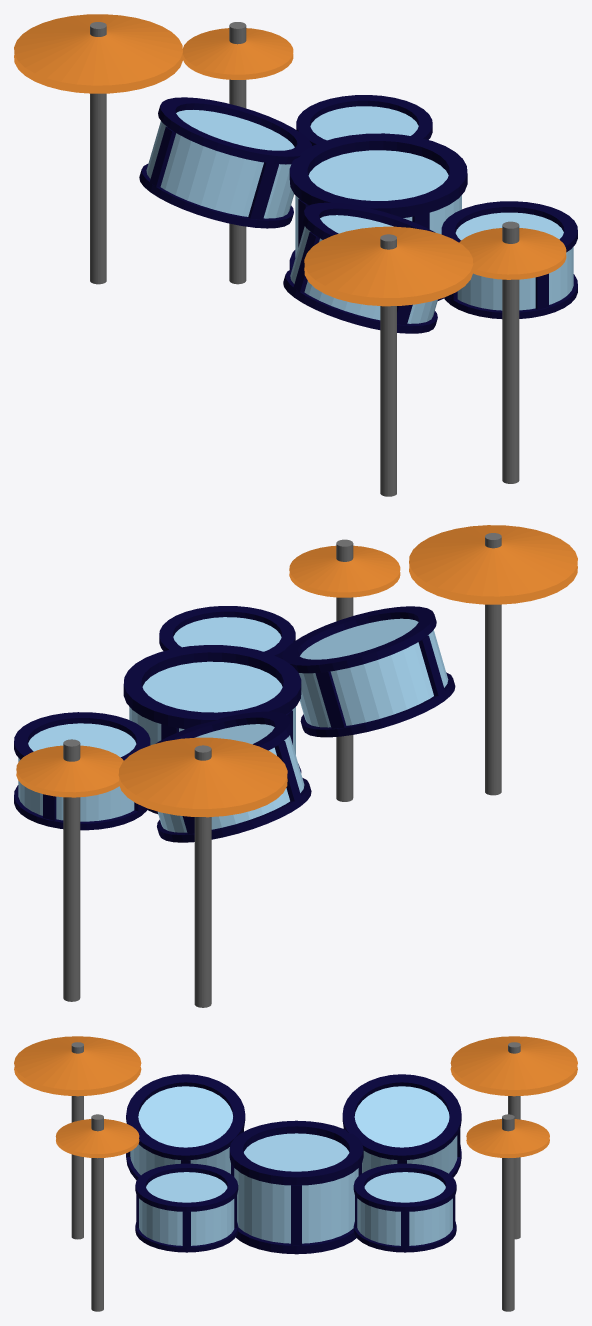
The model's file is dram.glb.
The picture shows the model from 3 angles, top to bottom: view 1: azimuth 30°, elevation 25°; view 2: azimuth 150°, elevation 25°; view 3: azimuth 270°, elevation 25°; orthographic projection. The views are drawn at different scales.
Visible parts, largest first — view 1: Dram1, Dram0, cymbal4, cymbal1, Dram3, Dram4, Dram2, cymbal2, cymbal3, pole3, pole1, pole4 (+1 smaller); view 2: Dram4, Dram0, cymbal4, cymbal1, Dram2, Dram1, Dram3, cymbal3, cymbal2, pole2, pole1, pole4 (+1 smaller); view 3: Dram0, Dram1, Dram4, Dram3, Dram2, cymbal1, cymbal4, cymbal3, cymbal2, pole3, pole2, pole4 (+1 smaller).
Part boxes in pixels (x1,y1,x2,y2): Dram1: (139,97,311,228); Dram0: (289,133,467,300); cymbal4: (304,226,473,306); cymbal1: (14,14,182,93); Dram3: (441,201,577,318); Dram4: (283,202,437,333); Dram2: (296,95,432,145); cymbal2: (182,28,293,79); cymbal3: (459,228,566,279); pole3: (502,221,519,483); pole1: (90,22,106,284); pole4: (380,234,396,496); Dram4: (282,606,455,737); Dram0: (123,645,301,813); cymbal4: (409,525,577,604); cymbal1: (118,737,287,817); Dram2: (14,712,150,830); Dram1: (155,711,311,842); Dram3: (159,606,295,658); cymbal3: (289,545,400,597); cymbal2: (16,745,123,797); pole2: (63,739,80,1001); pole1: (194,745,211,1007); pole4: (485,533,501,795); Dram0: (229,1120,363,1254); Dram1: (342,1074,461,1177); Dram4: (126,1074,245,1180); Dram3: (135,1163,238,1252); Dram2: (353,1163,456,1252); cymbal1: (450,1036,577,1096); cymbal4: (14,1036,141,1096); cymbal3: (55,1119,139,1158); cymbal2: (466,1119,549,1157); pole3: (91,1114,103,1311); pole2: (502,1114,514,1311); pole4: (71,1042,83,1239).
Size of the model in its own units: 6.76 by 5.66 by 13.47.
